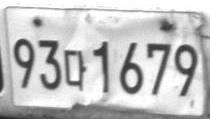1: (90, 40, 115, 92)
3: (38, 39, 63, 90)
6: (119, 42, 144, 95)
7: (146, 42, 172, 95)
9: (174, 43, 198, 97), (12, 37, 35, 88)
다: (63, 48, 87, 90)
